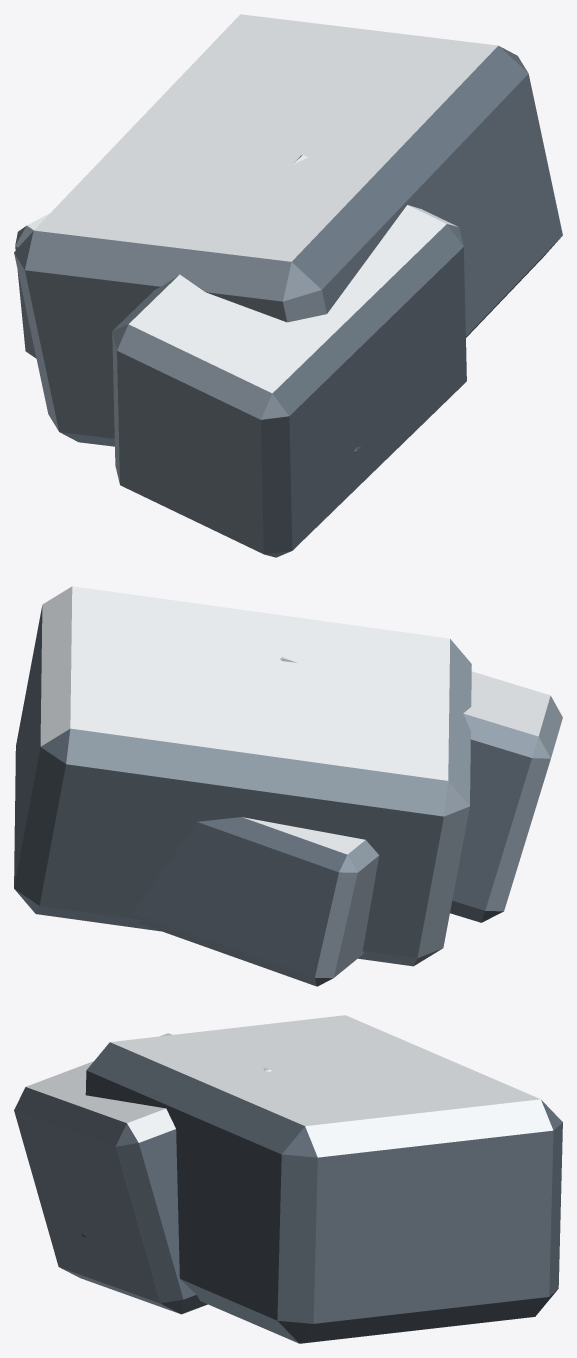
File: Slate_C.fbx
3 views of the same model, one above another, from view 1: azimuth 30°, elevation 25°; view 2: azimuth 150°, elevation 25°; view 3: azimuth 270°, elevation 25° (orthographic). The views are drawn at different scales.
Parts seen in each view (by area): view 1: Slate_C; view 2: Slate_C; view 3: Slate_C.
Boxes of the visible parts, box(x1,y1,x2,y2) form: Slate_C: box(14, 14, 562, 557); Slate_C: box(14, 586, 562, 986); Slate_C: box(14, 1015, 562, 1343).
Bounding box in the file's own units: 1.72 × 1.07 × 1.75.
